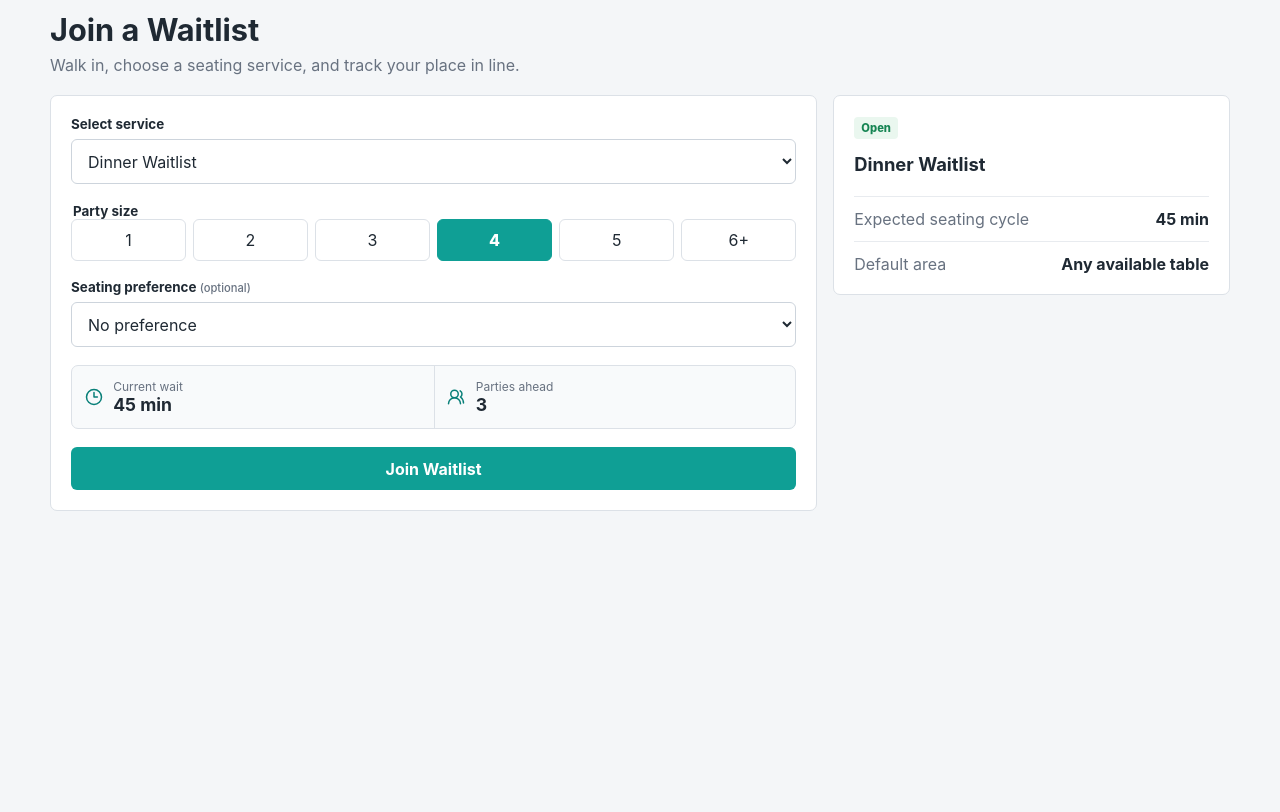
Test: JoinQueuePage › joins using the real service list from useServices(), not mock data
Expected: the text "Parties ahead 3" is shown, [434,366,795,428]
Click the button "Join Waitlist" at point(434, 469), box [71,447,796,490]
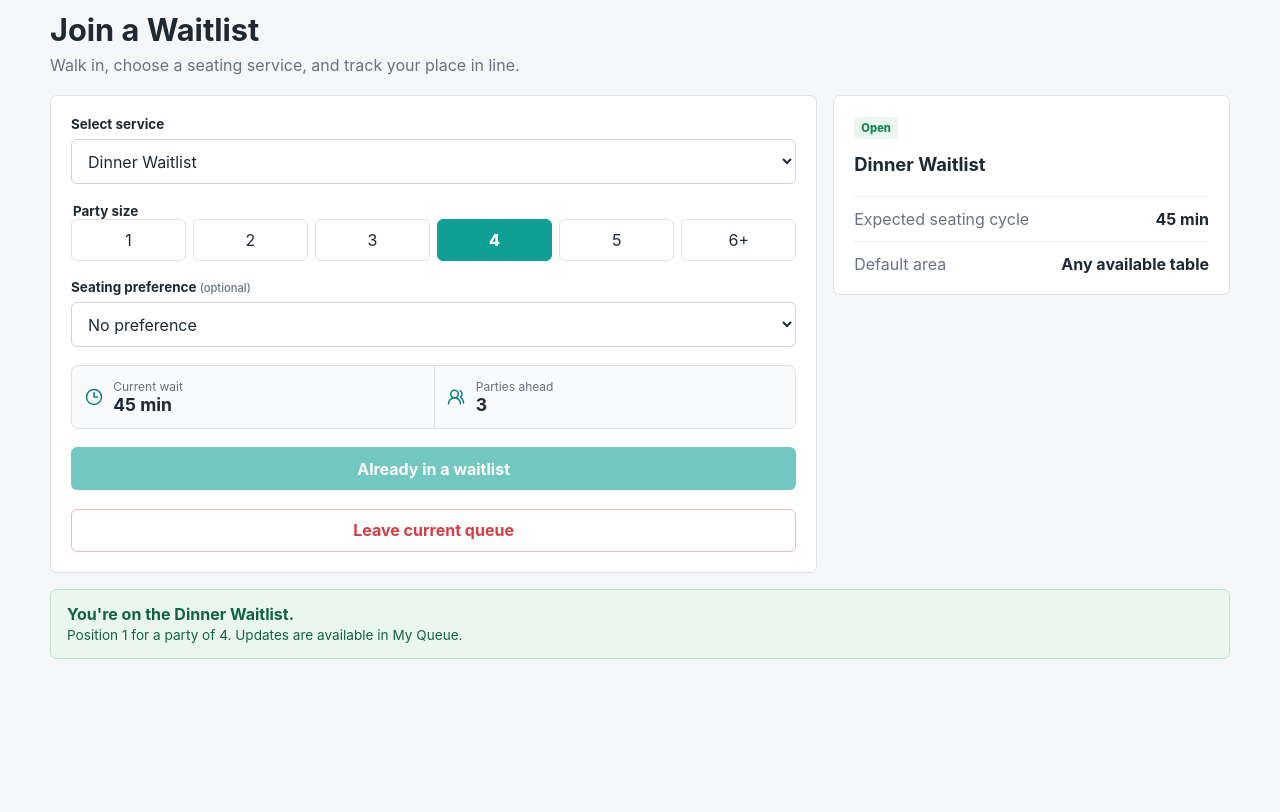
Result: the text "You're on the Dinner Waitlist." is shown at [67,604,294,624]
